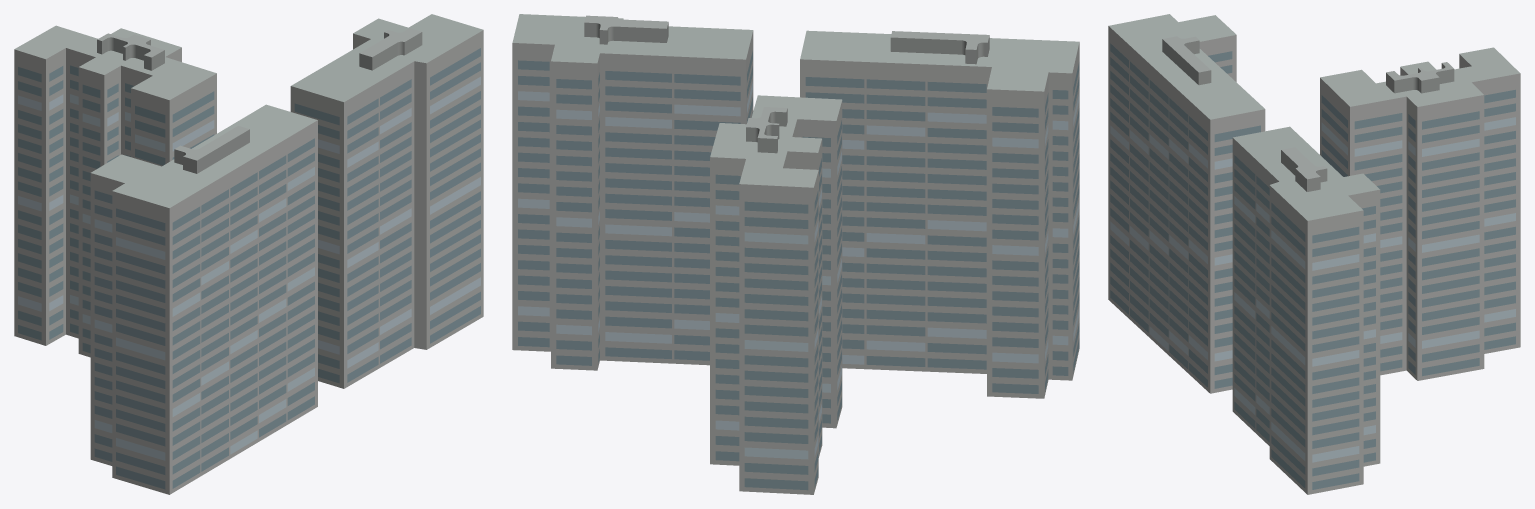
File: apt-a14206306.glb
3 renders of one model, left to right at view 1: azimuth 30°, elevation 25°; view 2: azimuth 150°, elevation 25°; view 3: azimuth 270°, elevation 25°, orthographic. The views are drawn at different scales.
Visible parts, largest first — view 1: apt-a14206306; view 2: apt-a14206306; view 3: apt-a14206306.
Boxes of the visible parts, x1,y1,x2,y2 form: apt-a14206306: (14,14,483,494); apt-a14206306: (512,14,1079,494); apt-a14206306: (1108,14,1520,494).
Bounding box in the file's own units: 83.59 × 54 × 70.32.
